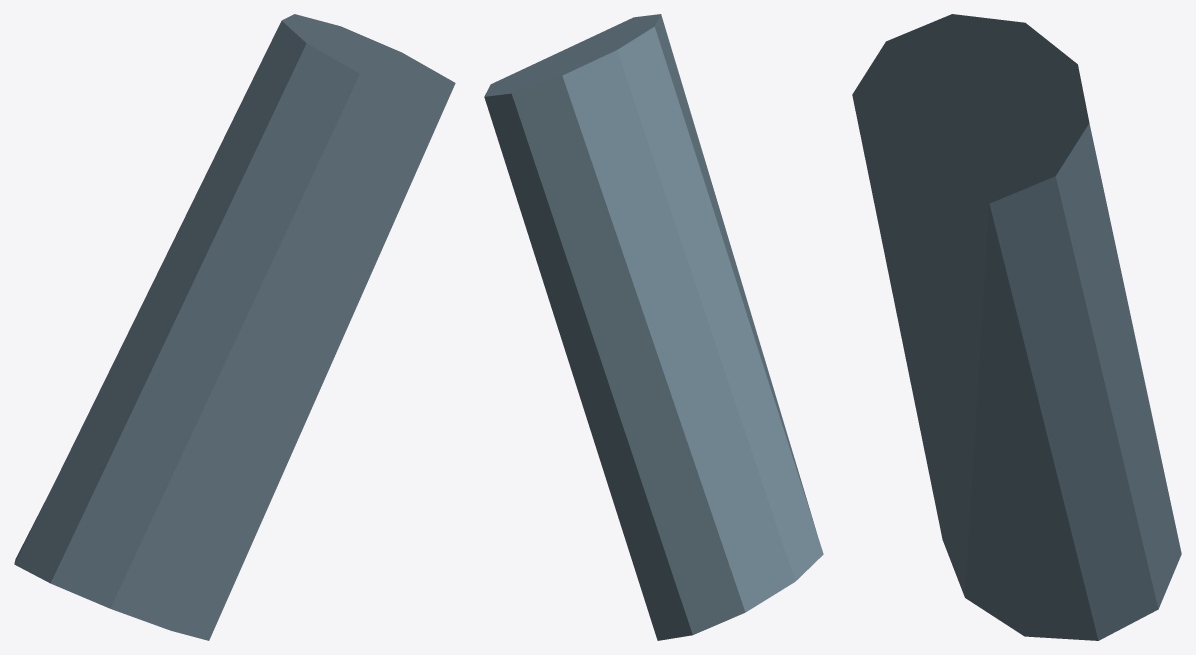
Rendered from group1208203810_lev3.glb.
3 renders of one model, left to right at view 1: azimuth 30°, elevation 25°; view 2: azimuth 150°, elevation 25°; view 3: azimuth 270°, elevation 25°, orthographic. The views are drawn at different scales.
Parts seen in each view (by area): view 1: group1208203810_lev3; view 2: group1208203810_lev3; view 3: group1208203810_lev3.
Boxes of the visible parts, x1,y1,x2,y2 form: group1208203810_lev3: (14, 14, 455, 640); group1208203810_lev3: (484, 14, 823, 640); group1208203810_lev3: (852, 14, 1181, 640).
Bounding box in the file's own units: 0.3213 × 0.476 × 0.2148.
